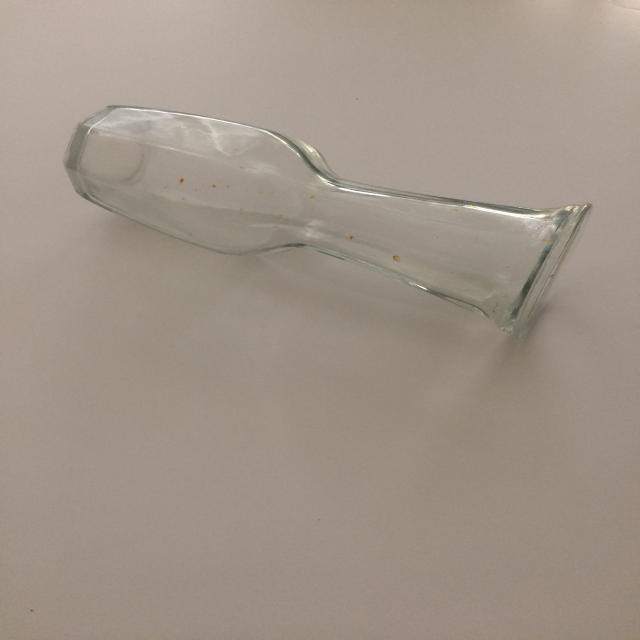glass: (47, 99, 598, 335)
